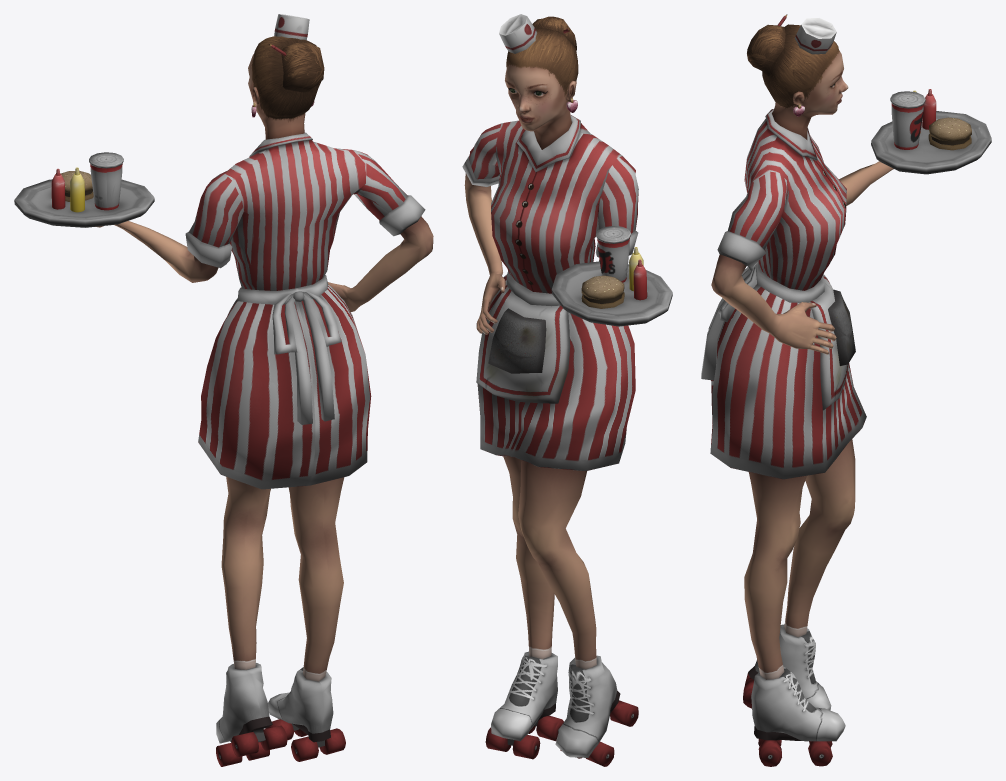
Rendered from waitress.fbx.
The picture shows the model from 3 angles, left to right: view 1: azimuth 30°, elevation 25°; view 2: azimuth 150°, elevation 25°; view 3: azimuth 270°, elevation 25°; orthographic projection.
Parts seen in each view (by area): view 1: waitress; view 2: waitress; view 3: waitress.
Part boxes in pixels (x1,y1,x2,y2): waitress: (14, 14, 433, 766); waitress: (462, 14, 672, 766); waitress: (701, 14, 991, 766).
Size of the model in its own units: 0.9008 by 2.07 by 0.7408.
3 materials, 3 textured.
